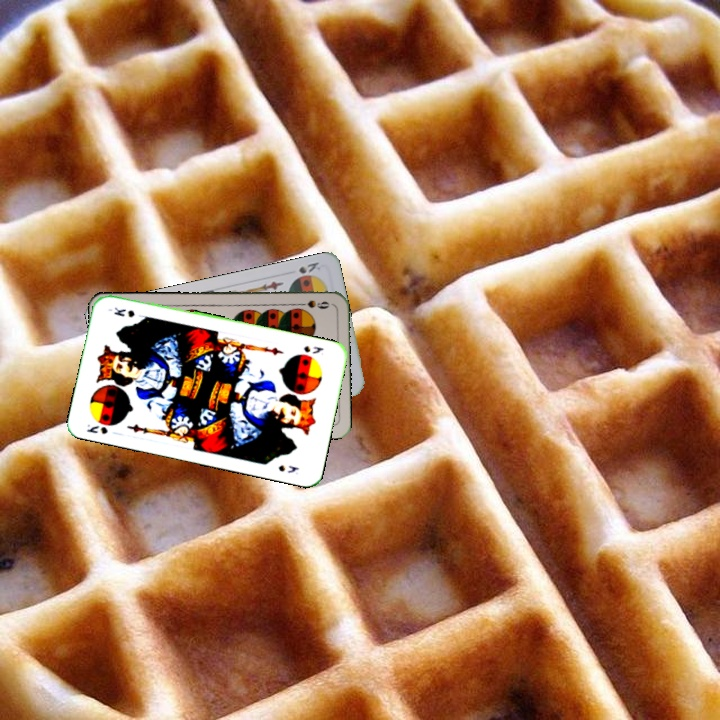S9: (292, 296, 331, 312)
SK: (289, 258, 323, 282), (82, 420, 110, 437), (300, 342, 326, 356)
